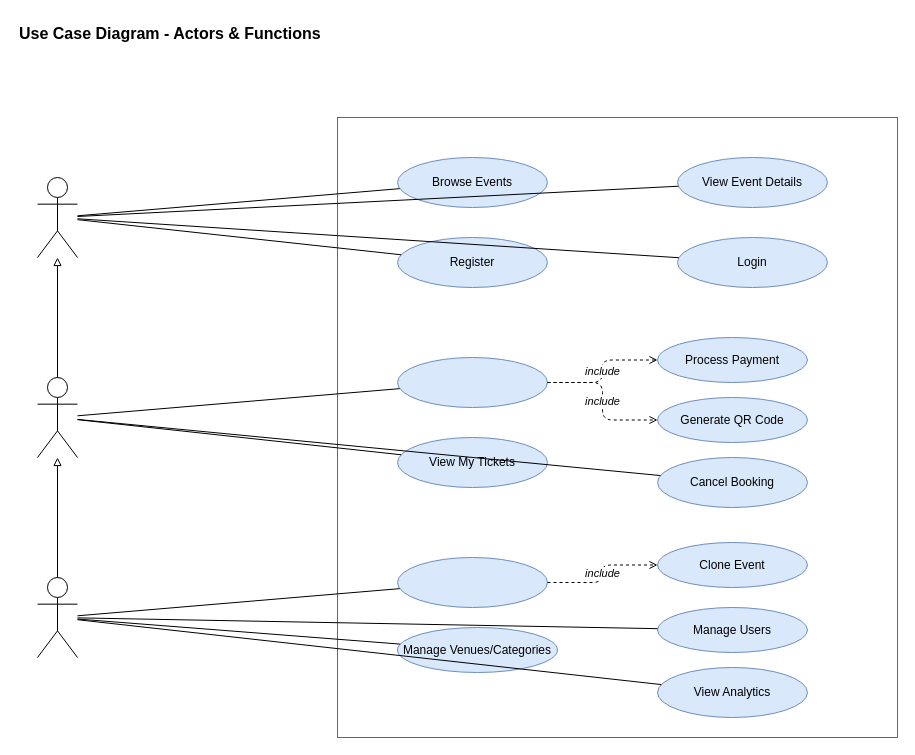
Image size: 915x755. Some labels were removed from this diagram. The shapes that lost their labels are listed below. From the top down, each one's box as (x1, y1, x2, y2) in pixels, then its label:
(36, 176, 78, 258): Guest
(396, 356, 548, 408): Book Tickets
(36, 376, 78, 458): Member
(336, 116, 898, 738): TicketHub
(396, 556, 548, 608): Manage Events
(36, 576, 78, 658): Admin
